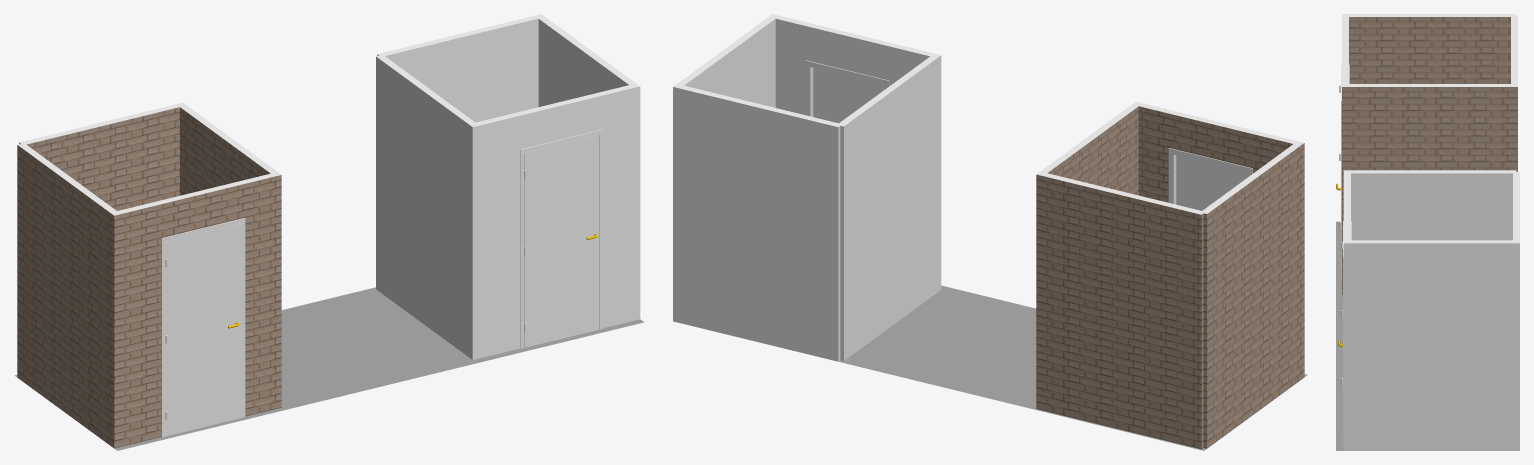
Rendered from wall_and_door.obj.
3 views of the same model, side by side, from view 1: azimuth 30°, elevation 25°; view 2: azimuth 150°, elevation 25°; view 3: azimuth 270°, elevation 25° (orthographic). The views are drawn at different scales.
Parts seen in each view (by area): view 1: wall_1_5, wall_6_35, wall_2_11, wall_5_29, ground_1, Porte_54, Porte_61, wall_8_46, wall_4_22, wall_7_40, wall_3_16, Montant_55 (+1 smaller); view 2: wall_4_23, wall_8_47, wall_1_5, wall_5_29, ground_1, wall_2_10, wall_6_34, wall_7_40, wall_3_16, Porte_54, Porte_61, Montant_55 (+1 smaller); view 3: wall_7_41, wall_3_17, wall_5_28, wall_1_4, ground_1, wall_6_37, wall_7_43, wall_3_19, wall_5_31, wall_1_7, wall_1_6, wall_3_18 (+11 smaller).
Part boxes in pixels (bbox=[...]): wall_1_5: bbox=[17, 145, 114, 448]; wall_6_35: bbox=[472, 86, 640, 359]; wall_2_11: bbox=[114, 175, 281, 448]; wall_5_29: bbox=[376, 56, 472, 359]; ground_1: bbox=[14, 287, 644, 450]; Porte_54: bbox=[166, 223, 241, 436]; Porte_61: bbox=[524, 135, 599, 347]; wall_8_46: bbox=[385, 18, 538, 122]; wall_4_22: bbox=[27, 107, 179, 210]; wall_7_40: bbox=[538, 19, 628, 106]; wall_3_16: bbox=[180, 107, 270, 195]; Montant_55: bbox=[161, 218, 245, 437]; wall_4_23: bbox=[1036, 174, 1203, 449]; wall_8_47: bbox=[673, 87, 840, 361]; wall_1_5: bbox=[1203, 143, 1304, 448]; wall_5_29: bbox=[840, 55, 941, 360]; ground_1: bbox=[838, 285, 1307, 450]; wall_2_10: bbox=[1138, 106, 1292, 202]; wall_6_34: bbox=[775, 19, 929, 114]; wall_7_40: bbox=[684, 19, 775, 107]; wall_3_16: bbox=[1047, 106, 1138, 195]; Porte_54: bbox=[1176, 155, 1247, 210]; Porte_61: bbox=[813, 68, 884, 123]; Montant_55: bbox=[1168, 148, 1252, 204]; wall_7_41: bbox=[1343, 243, 1519, 450]; wall_3_17: bbox=[1342, 87, 1517, 294]; wall_5_28: bbox=[1351, 173, 1512, 240]; wall_1_4: bbox=[1349, 17, 1510, 83]; ground_1: bbox=[1336, 221, 1343, 450]; wall_6_37: bbox=[1343, 170, 1347, 242]; wall_7_43: bbox=[1344, 242, 1519, 243]; wall_3_19: bbox=[1342, 85, 1517, 86]; wall_5_31: bbox=[1344, 170, 1516, 171]; wall_1_7: bbox=[1342, 14, 1514, 15]; wall_1_6: bbox=[1346, 15, 1514, 16]; wall_3_18: bbox=[1346, 84, 1513, 85].
Size of the model in its own units: 578 by 244 by 196.
